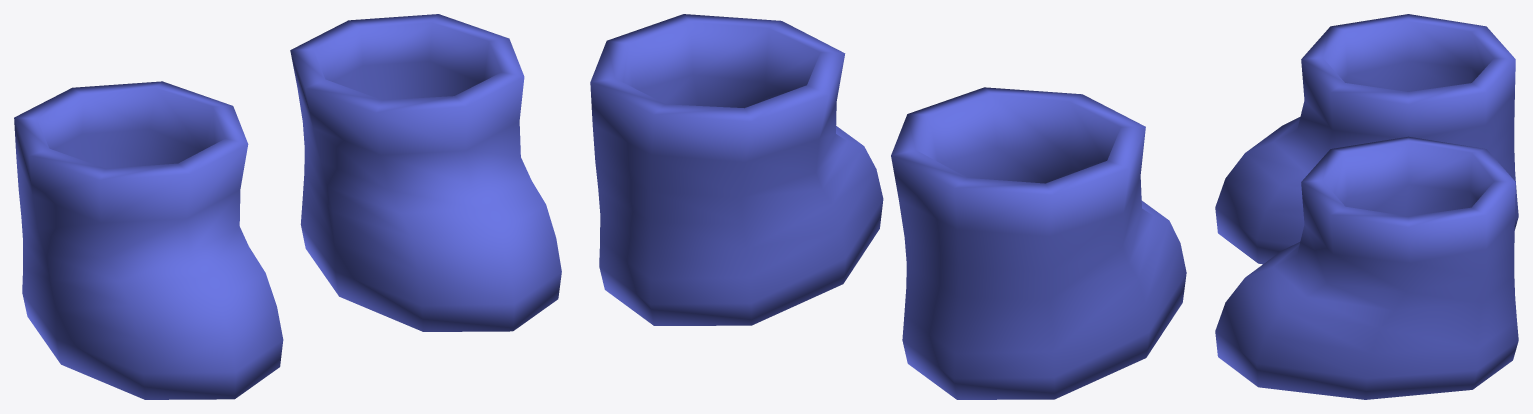
The model's file is blueboots.fbx.
3 views of the same model, side by side, from view 1: azimuth 30°, elevation 25°; view 2: azimuth 150°, elevation 25°; view 3: azimuth 270°, elevation 25° (orthographic). The views are drawn at different scales.
Parts seen in each view (by area): view 1: boots2; view 2: boots2; view 3: boots2.
Part boxes in pixels (x1,y1,x2,y2): boots2: (14,14,561,399); boots2: (590,14,1186,399); boots2: (1215,14,1518,399).
Size of the model in its own units: 23.4 by 9.36 by 14.07.
